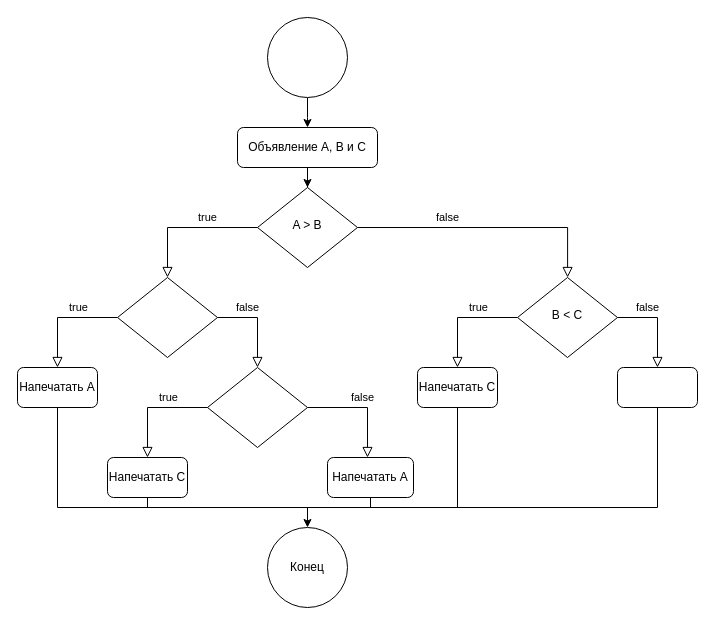
Some shapes in this 715 by 625 pixel diagram are drawn without their labels. Here are the shapes that lost their labels. From the top down, the centre of each, then its label:
At [307,57]: "Начало".
At [167,317]: "B > C".
At [257,407]: "A < C".
At [657,387]: "Напечатать В".
